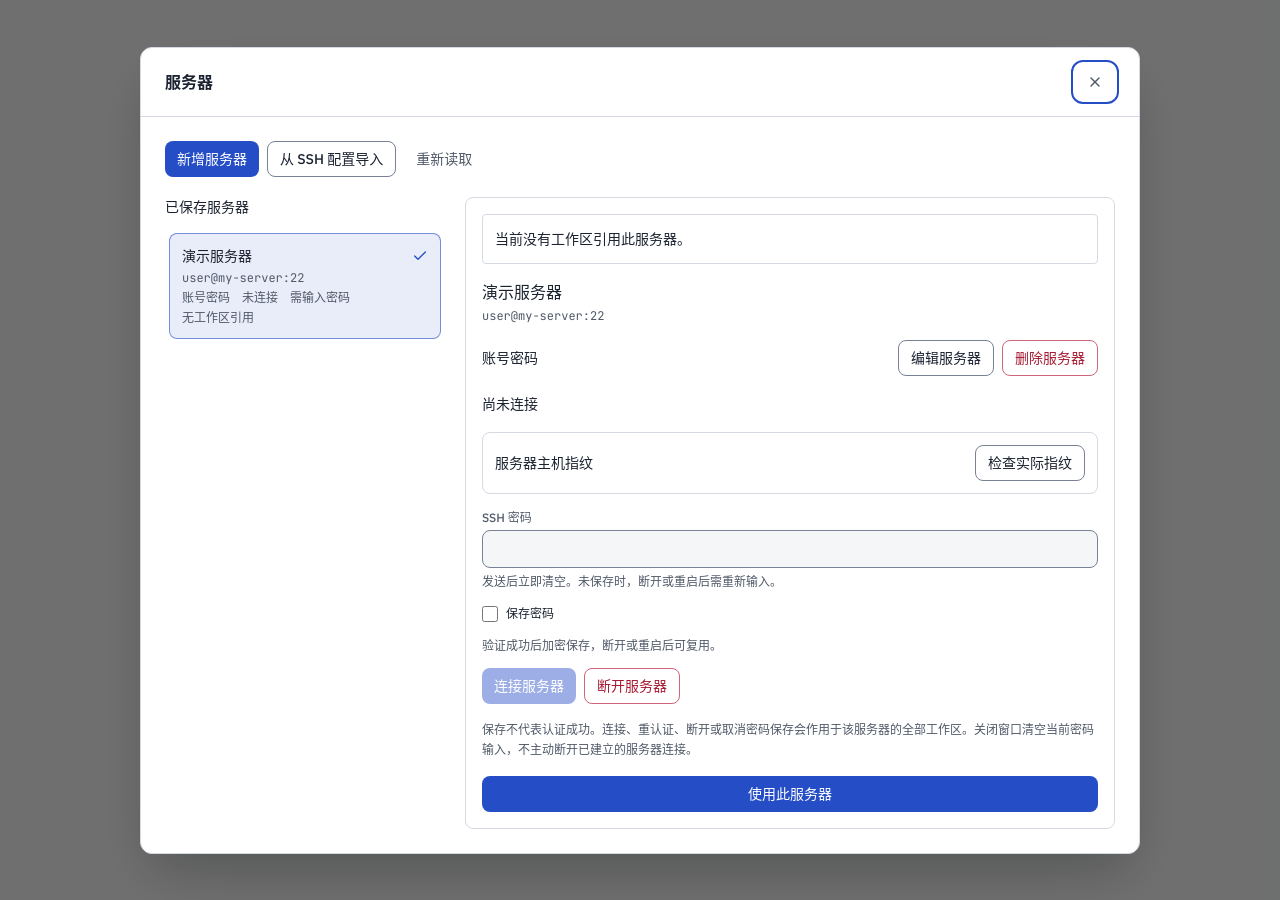
Test case: 活动任务拒绝删除时保留服务器列表与原快照，不伪报删除成功
Step 1. Click the button "删除服务器" → {"x": 1050, "y": 358}, box [1002,340,1098,376]
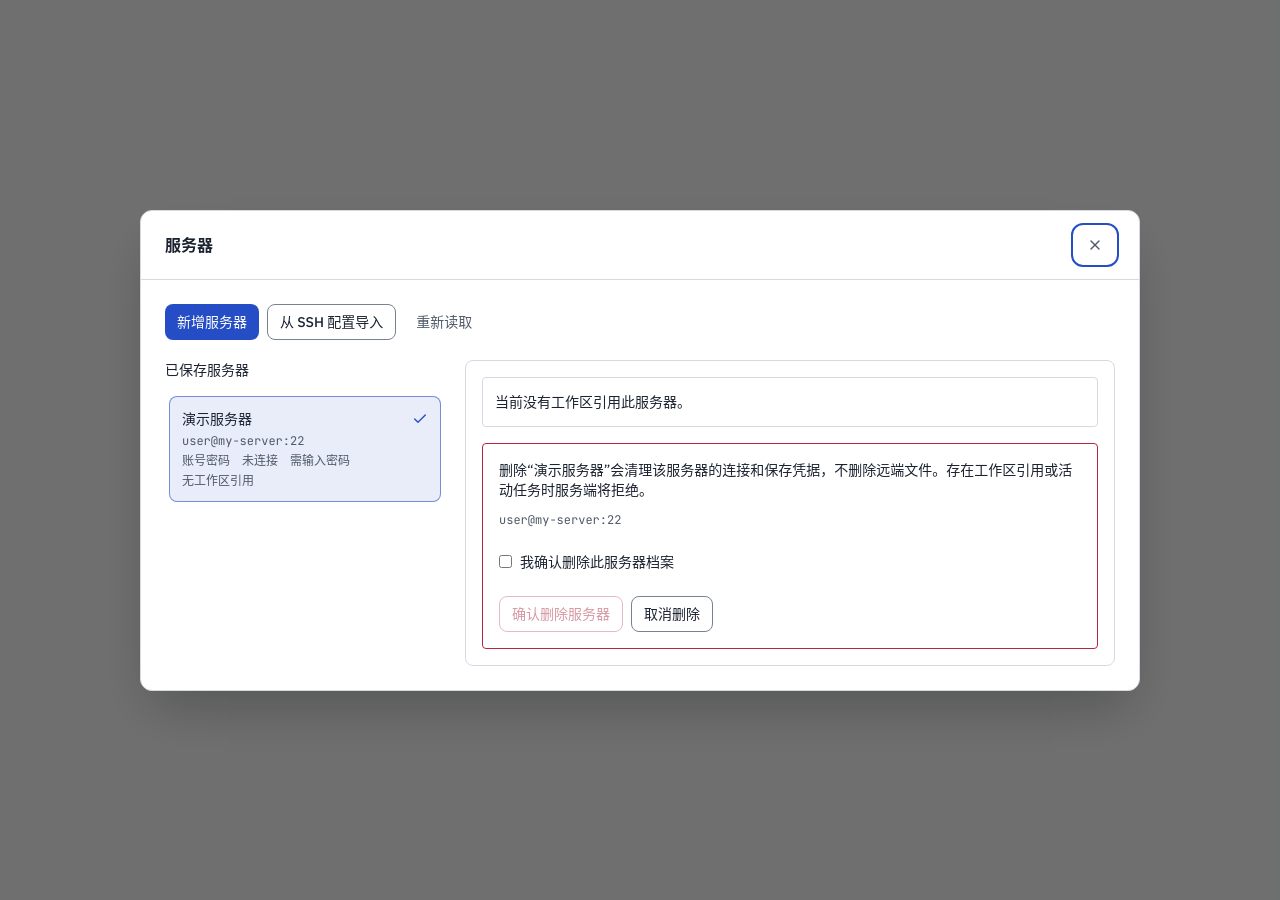
Step 2. Click the checkbox labelled "我确认删除此服务器档案" → {"x": 506, "y": 562}, box [499,555,512,568]
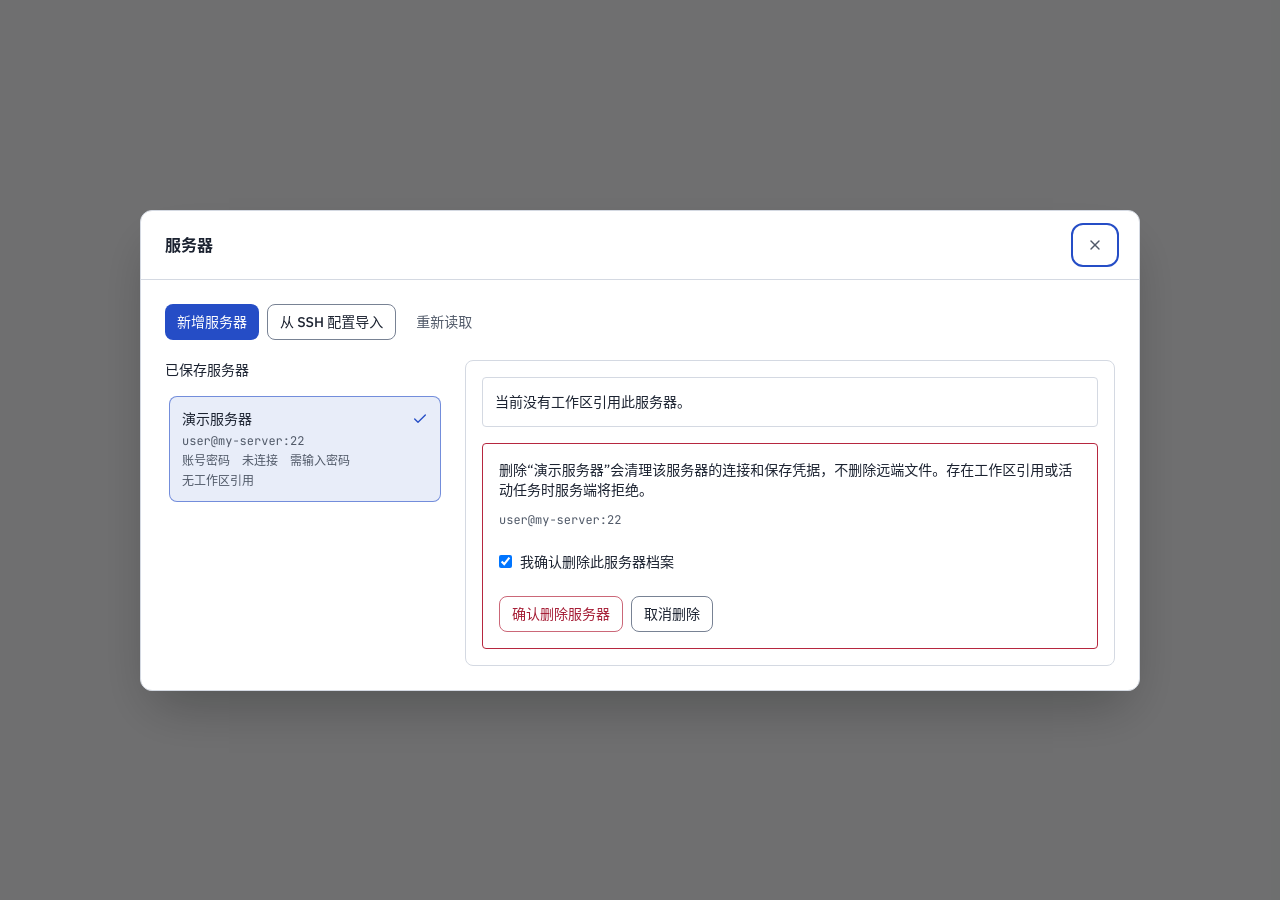
Step 3. Click the button "确认删除服务器" → {"x": 561, "y": 614}, box [499,596,623,632]
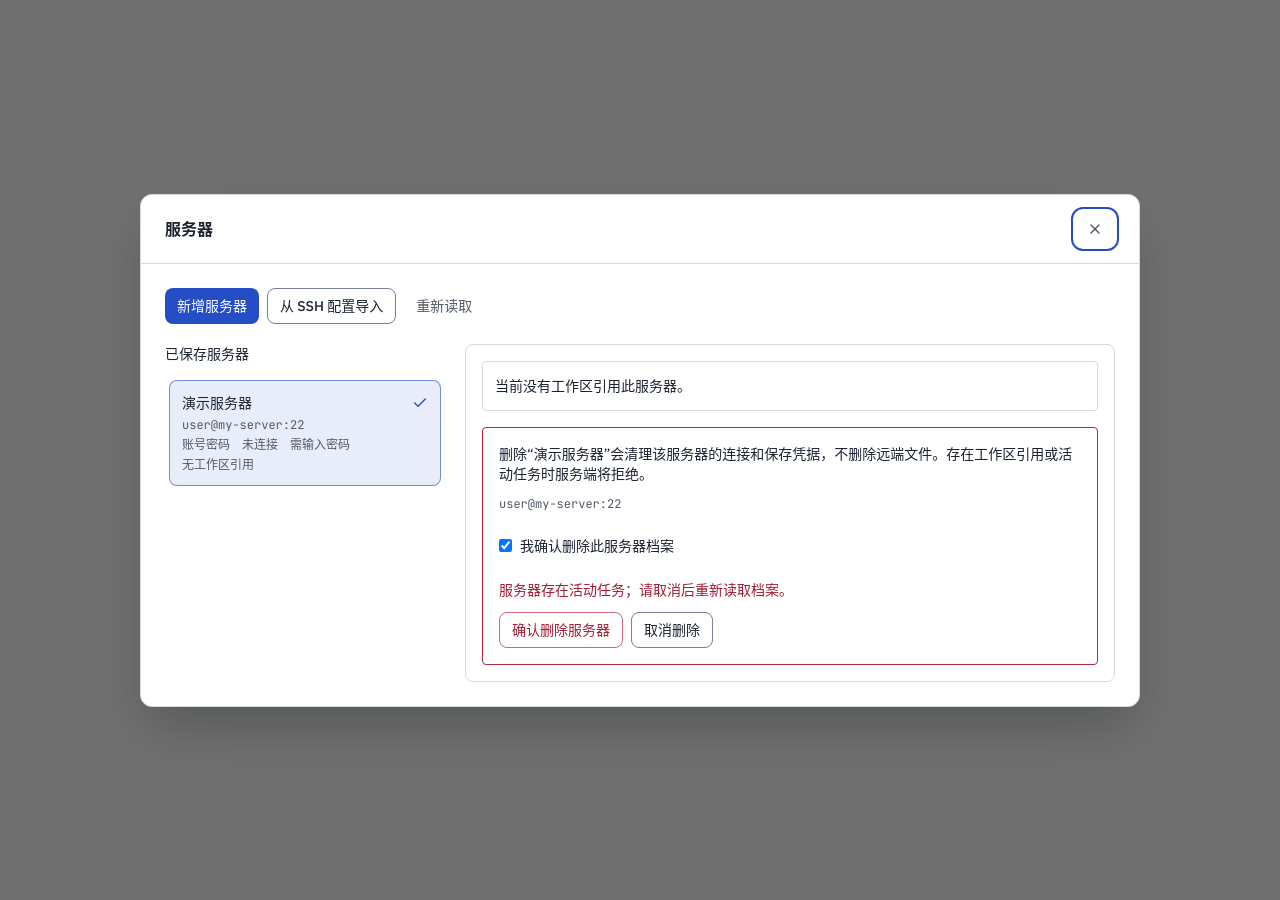
Expected: the message shows "服务器存在活动任务", [499,580,625,598]
